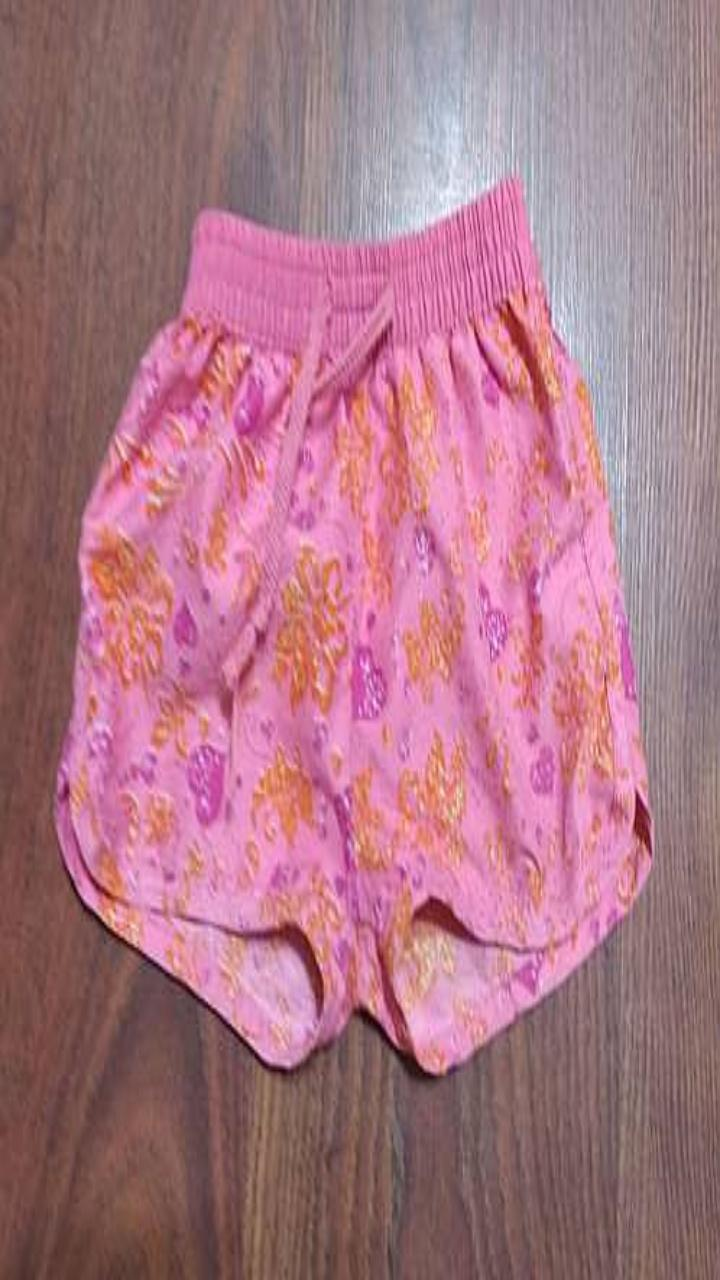Shorts: (56, 179, 650, 1072)
